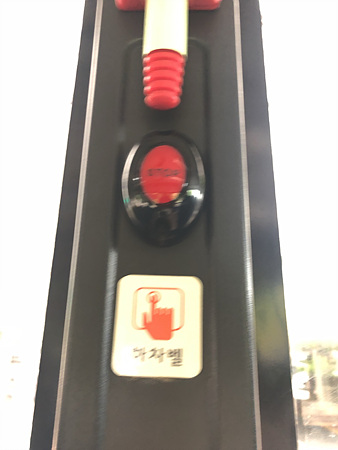bell: (120, 131, 206, 244)
